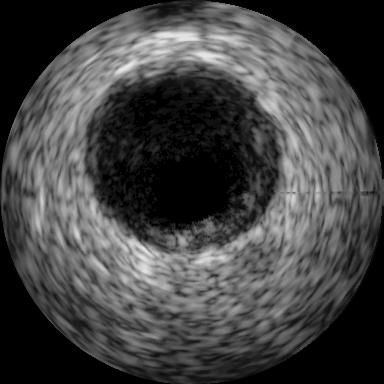Lumen: (155, 145, 234, 228)
